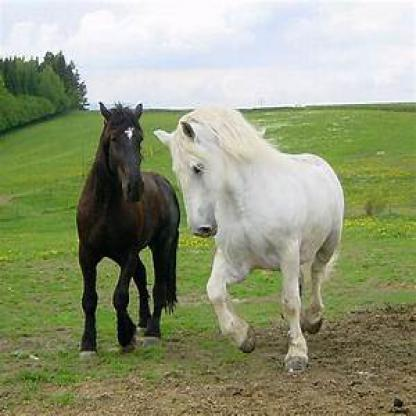horse: (152, 104, 351, 383), (75, 97, 182, 366)
